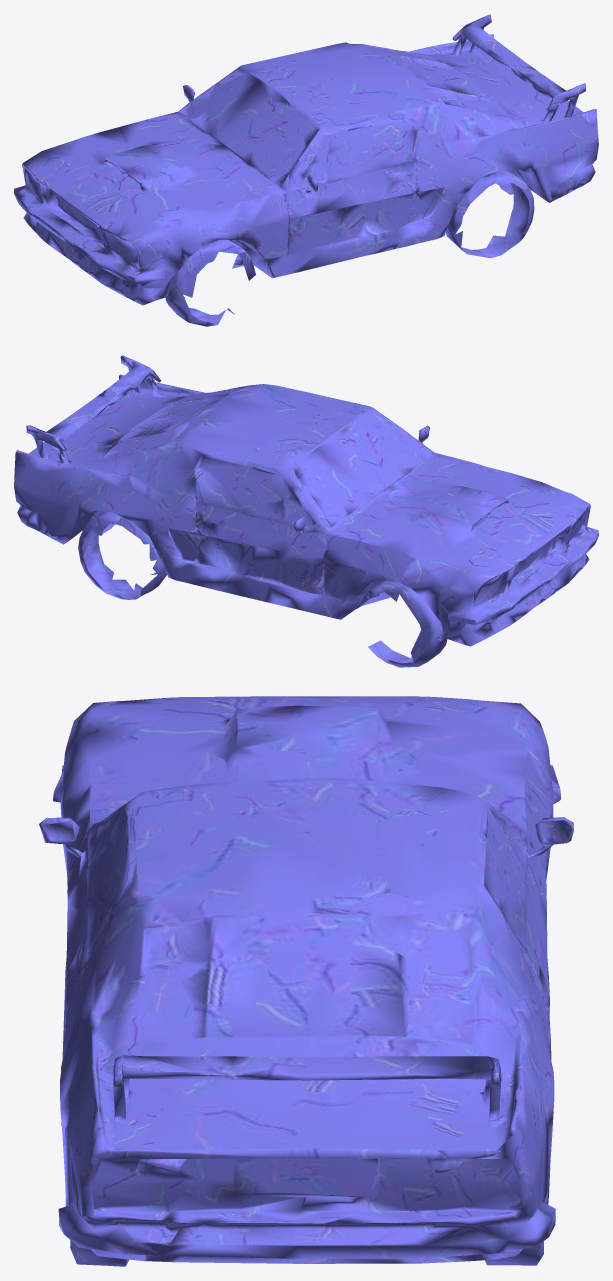
The model's file is car2_body.gltf.
The picture shows the model from 3 angles, top to bottom: view 1: azimuth 30°, elevation 25°; view 2: azimuth 150°, elevation 25°; view 3: azimuth 270°, elevation 25°; orthographic projection. The views are drawn at different scales.
Visible parts, largest first — view 1: car2_body; view 2: car2_body; view 3: car2_body.
Part boxes in pixels (bbox=[...]): car2_body: bbox=[14, 14, 598, 326]; car2_body: bbox=[14, 355, 598, 667]; car2_body: bbox=[39, 696, 573, 1266].
Size of the model in its own units: 1.9 by 0.6101 by 0.9083.
1 material, 1 textured.
